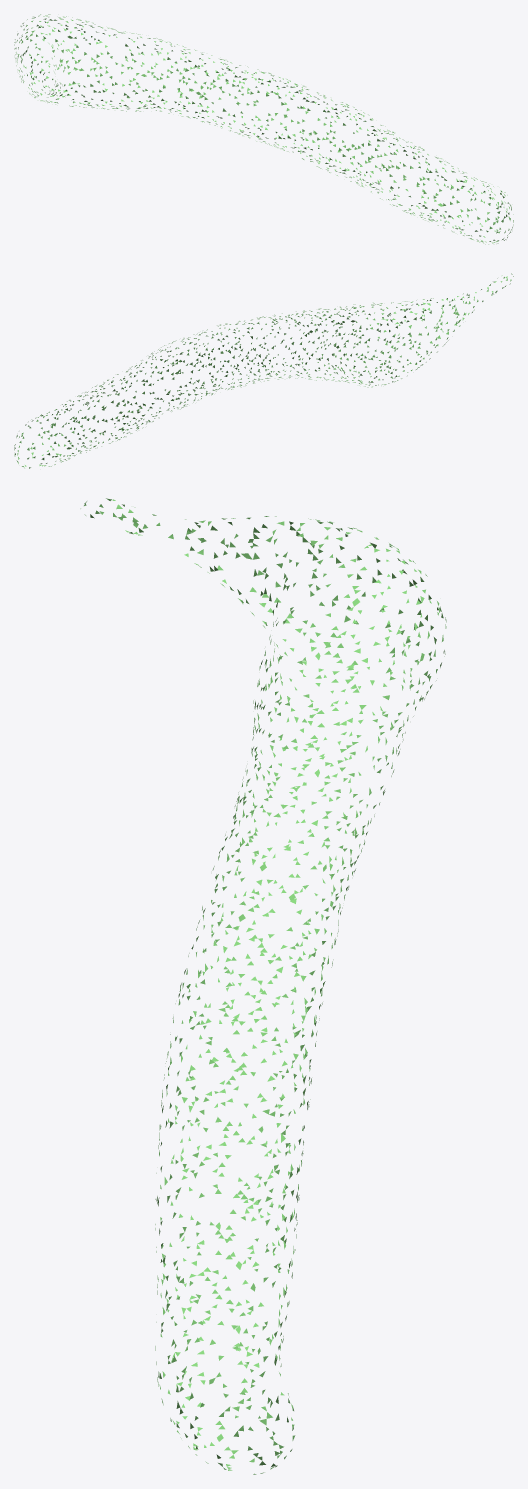
The model's file is morph_016.glb.
The picture shows the model from 3 angles, top to bottom: view 1: azimuth 30°, elevation 25°; view 2: azimuth 150°, elevation 25°; view 3: azimuth 270°, elevation 25°; orthographic projection. The views are drawn at different scales.
Size of the model in its own units: 110 by 64.32 by 38.46.
